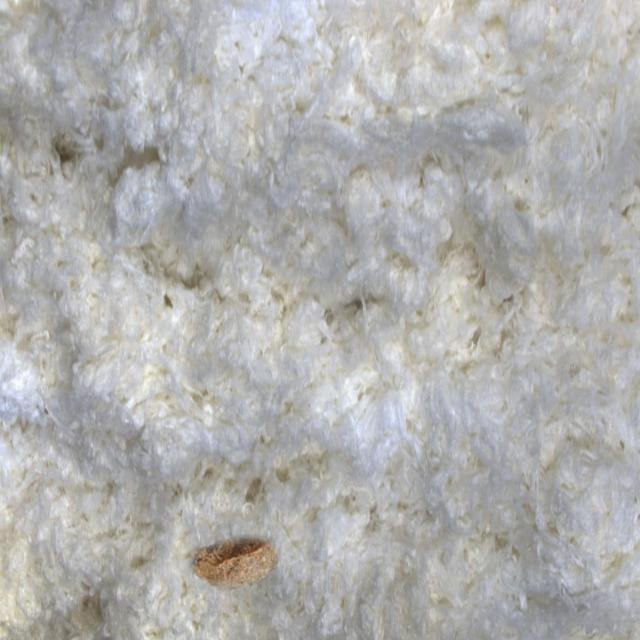dust: (155, 485, 302, 640)
